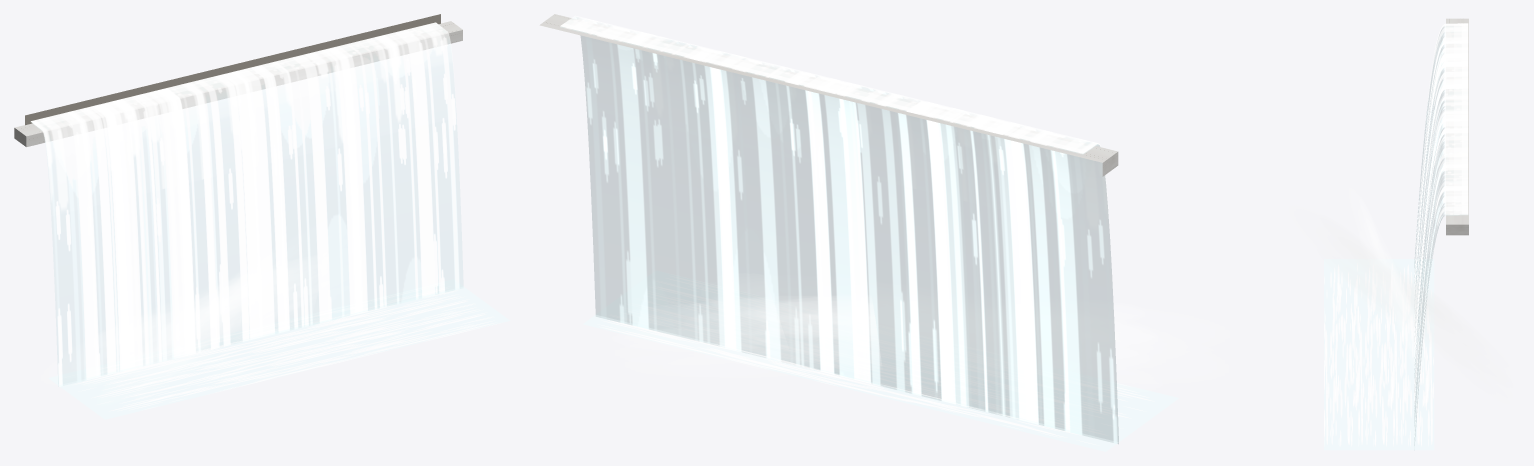
The picture shows the model from 3 angles, left to right: view 1: azimuth 30°, elevation 25°; view 2: azimuth 150°, elevation 25°; view 3: azimuth 270°, elevation 25°; orthographic projection. The views are drawn at different scales.
Parts seen in each view (by area): view 1: Mesh_overflow_sheet, Mesh_overflow_lip, Mesh_overflow_mist, Mesh_overflow_weir; view 2: Mesh_overflow_sheet, Mesh_overflow_mist, Mesh_overflow_lip, Mesh_overflow_weir; view 3: Mesh_overflow_sheet, Mesh_overflow_mist, Mesh_overflow_lip, Mesh_overflow_weir.
Part boxes in pixels (x1,y1,x2,y2): Mesh_overflow_sheet: (31, 29, 509, 419); Mesh_overflow_lip: (31, 22, 455, 211); Mesh_overflow_mist: (80, 236, 326, 392); Mesh_overflow_weir: (14, 14, 462, 147); Mesh_overflow_sheet: (561, 17, 1178, 451); Mesh_overflow_mist: (624, 281, 1189, 383); Mesh_overflow_lip: (560, 15, 1108, 229); Mesh_overflow_weir: (539, 14, 1118, 176); Mesh_overflow_sheet: (1324, 26, 1461, 450); Mesh_overflow_mist: (1316, 199, 1509, 388); Mesh_overflow_lip: (1427, 23, 1468, 255); Mesh_overflow_weir: (1446, 18, 1468, 235).
Bounding box in the file's own units: 4.67 × 2.37 × 2.06.
4 materials, 4 textured.
